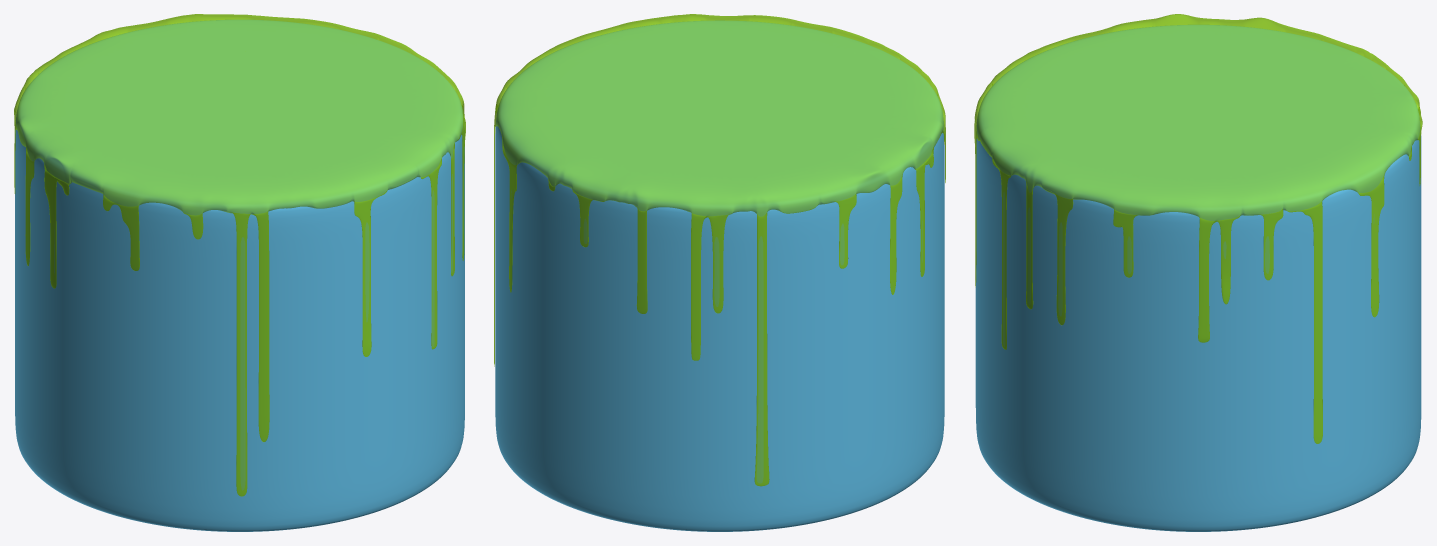
The model's file is Cake_Layer_1_LightBlue_GreenDrip.glb.
The picture shows the model from 3 angles, left to right: view 1: azimuth 30°, elevation 25°; view 2: azimuth 150°, elevation 25°; view 3: azimuth 270°, elevation 25°; orthographic projection.
Visible parts, largest first — view 1: Circle, Circle.001; view 2: Circle, Circle.001; view 3: Circle, Circle.001.
Boxes of the visible parts, left/top/right/bottom form: Circle: left=15, top=20, right=464, bottom=531; Circle.001: left=14, top=14, right=465, bottom=496; Circle: left=495, top=20, right=944, bottom=531; Circle.001: left=494, top=14, right=945, bottom=486; Circle: left=975, top=25, right=1421, bottom=531; Circle.001: left=974, top=14, right=1422, bottom=443.
Size of the model in its own units: 0.1501 by 0.1237 by 0.1499.
